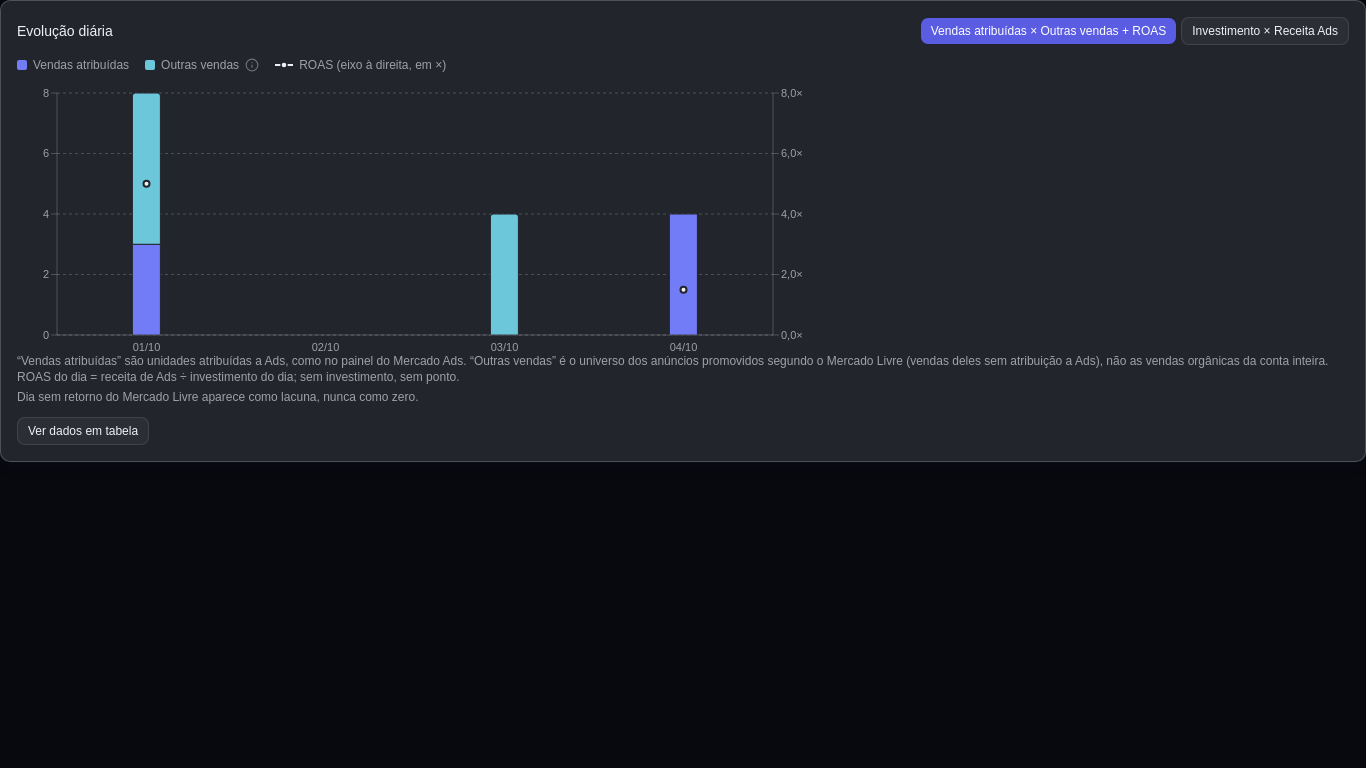
Test case: SerieDiaria › tabela acessível reproduz os dias, com traço na lacuna
The width and height of the screenshot is (1366, 768).
Click the button "Ver dados em tabela".
click(83, 431)  # box [17,417,149,445]
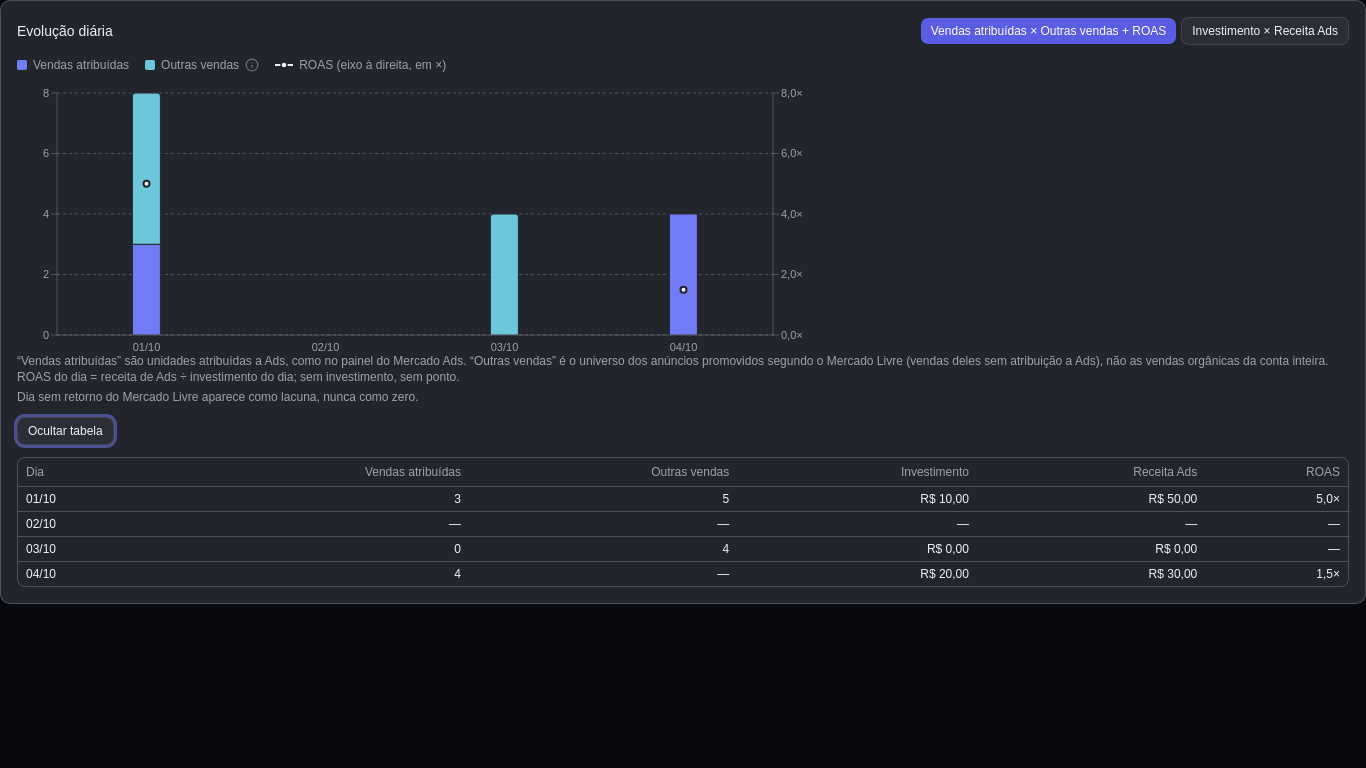
Now the number of rows is 5, box [18,458,1348,486]; [18,486,1348,512]; [18,512,1348,536]; [18,536,1348,562]; [18,562,1348,586]
Now the text "5,0×" is shown, box [1205,486,1348,512]
